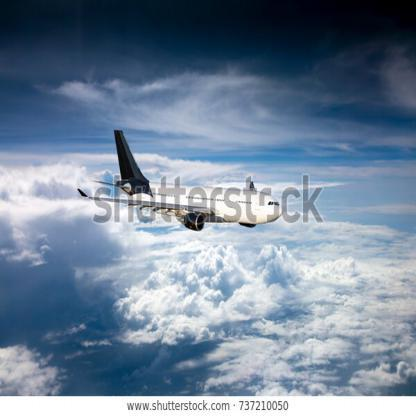CIV_Plane: (76, 123, 284, 234)
